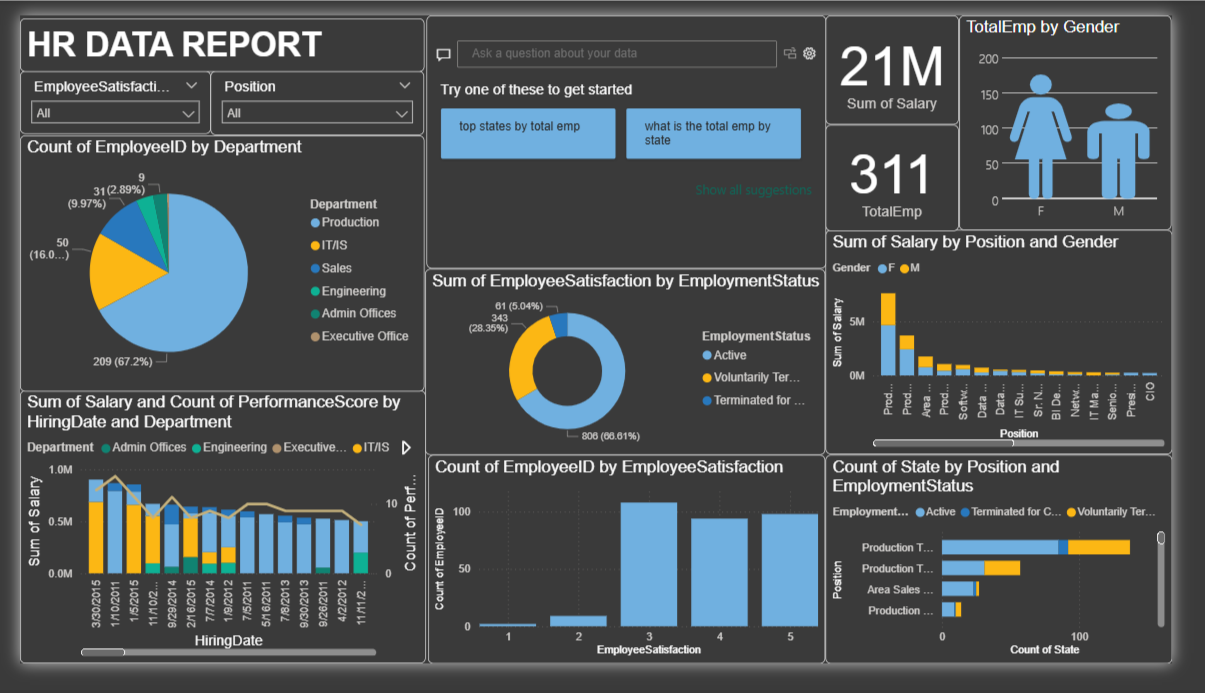

This screenshot's page, from the dashboard's own definition file:
{"tool":"powerbi","page":{"name":"Data Report","canvas":[1280,720],"ordinal":0},"visuals":[{"type":"barChart","fields":{"Category":["HRData(5).Position"],"Y":["CountNonNull(HRData(5).State)"],"Series":["HRData(5).EmploymentStatus"]},"box":[894.6,488.8,385,231.7],"z":0},{"type":"columnChart","fields":{"Y":["Sum(HRData(5).Salary)"],"Category":["HRData(5).Position"],"Series":["HRData(5).Gender"]},"box":[894.6,238.6,385,249],"z":1000},{"type":"lineStackedColumnComboChart","fields":{"Y":["Sum(HRData(5).Salary)"],"Category":["HRData(5).HiringDate"],"Y2":["CountNonNull(HRData(5).PerformanceScore)"],"Series":["HRData(5).Department"]},"box":[0,417.3,450.7,303.2],"z":2000},{"type":"pieChart","fields":{"Category":["HRData(5).Department"],"Y":["CountNonNull(HRData(5).EmployeeID)"]},"box":[0,132.6,449.6,284.7],"z":3000},{"type":"columnChart","fields":{"Category":["HRData(5).EmployeeSatisfaction"],"Y":["CountNonNull(HRData(5).EmployeeID)"]},"box":[453.1,488.8,441.5,231.7],"z":4000},{"type":"card","fields":{"Values":["Sum(HRData(5).Salary)"]},"box":[895,0,148,121],"z":5000},{"type":"card","fields":{"Values":["HRData(5).TotalEmp"]},"box":[895,121,148,118],"z":6000},{"type":"donutChart","fields":{"Y":["Sum(HRData(5).EmployeeSatisfaction)"],"Category":["HRData(5).EmploymentStatus"]},"box":[449.6,282.4,445,206.4],"z":7000},{"type":"slicer","fields":{"Values":["HRData(5).Position"]},"box":[212.1,62.3,237.5,71.5],"z":8000},{"type":"slicer","fields":{"Values":["HRData(5).EmployeeSatisfaction"]},"box":[0,62.3,212.1,70.3],"z":9000},{"type":"PBI_CV_73744D90_4DC9_4F18_8BA5_EE8FA5C98035","fields":{"Category":["HRData(5).Gender"],"Values":["HRData(5).TotalEmp"]},"box":[1043.3,0,236.3,238.6],"z":10000},{"type":"qnaVisual","box":[452,0,444.2,281.5],"z":11000},{"type":"textbox","box":[0,3.3,449.5,59.3],"z":12000}]}

Visuals, with their boxes in screenshot pixels (x1, y1, x2, y2), scaled from the page's 1280x720 canvas onto the 1205x693 screenshot:
barChart - HRData(5).Position x CountNonNull(HRData(5).State): box=[842, 470, 1204, 692]
columnChart - Sum(HRData(5).Salary) x HRData(5).Position: box=[842, 230, 1204, 469]
lineStackedColumnComboChart - Sum(HRData(5).Salary) x HRData(5).HiringDate: box=[0, 402, 424, 692]
pieChart - HRData(5).Department x CountNonNull(HRData(5).EmployeeID): box=[0, 128, 423, 402]
columnChart - HRData(5).EmployeeSatisfaction x CountNonNull(HRData(5).EmployeeID): box=[427, 470, 842, 692]
card - Sum(HRData(5).Salary): box=[843, 0, 982, 116]
card - HRData(5).TotalEmp: box=[843, 116, 982, 230]
donutChart - Sum(HRData(5).EmployeeSatisfaction) x HRData(5).EmploymentStatus: box=[423, 272, 842, 470]
slicer - HRData(5).Position: box=[200, 60, 423, 129]
slicer - HRData(5).EmployeeSatisfaction: box=[0, 60, 200, 128]
PBI_CV_73744D90_4DC9_4F18_8BA5_EE8FA5C98035 - HRData(5).Gender x HRData(5).TotalEmp: box=[982, 0, 1204, 230]
qnaVisual: box=[426, 0, 844, 271]
textbox: box=[0, 3, 423, 60]
